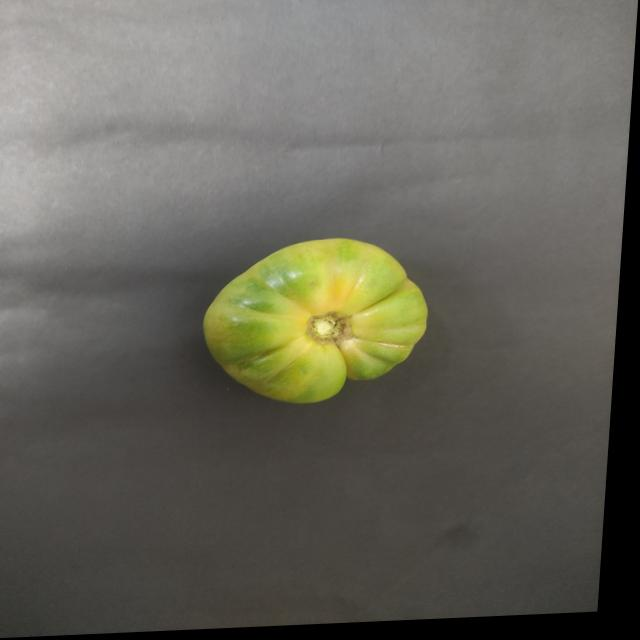yesil: (190, 237, 457, 409)
